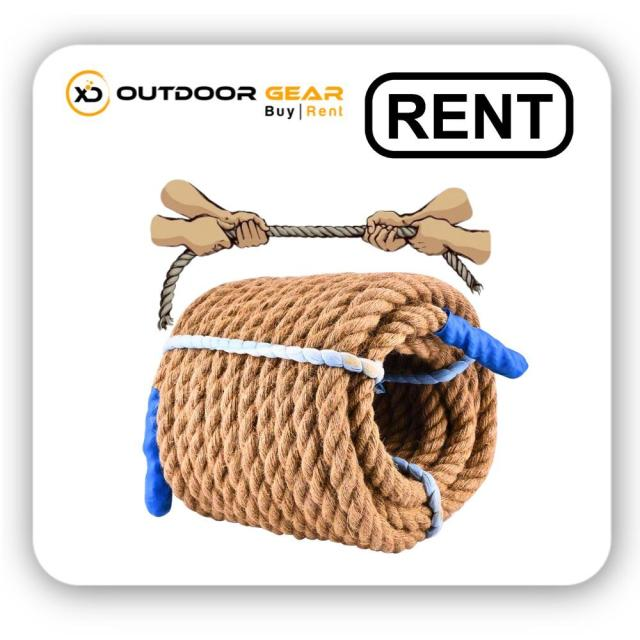Rope: (146, 267, 509, 565)
